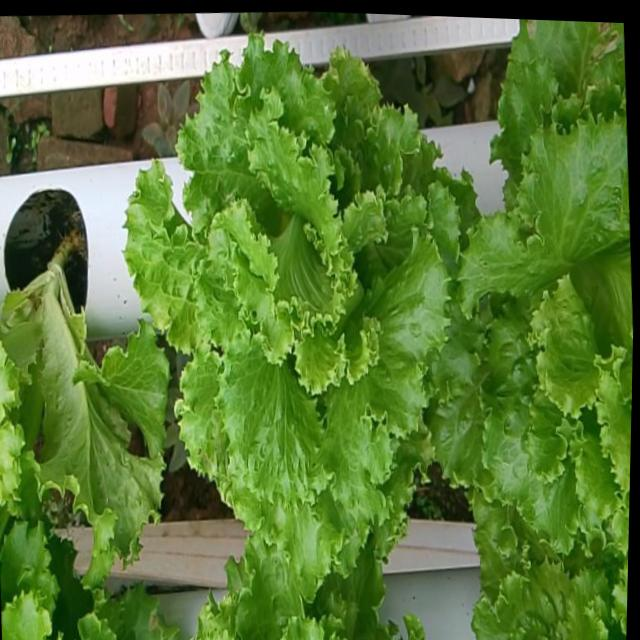Mature: (130, 33, 464, 571), (436, 103, 633, 547)
